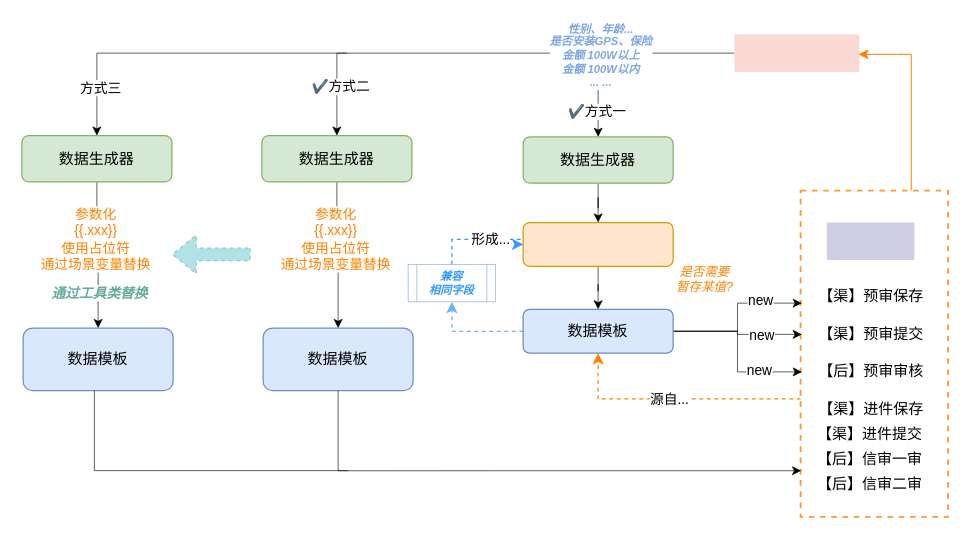
The diagram is 971 pixels wide and 540 high, and some of its shapes have lost their labels. Here are the shapes that lost their labels. From the top down, the box of each, then its label:
(734, 34, 859, 71): 数据生成规则
(522, 221, 673, 266): 数据领域对象 (实例化)
(826, 222, 914, 259): 测试场景
